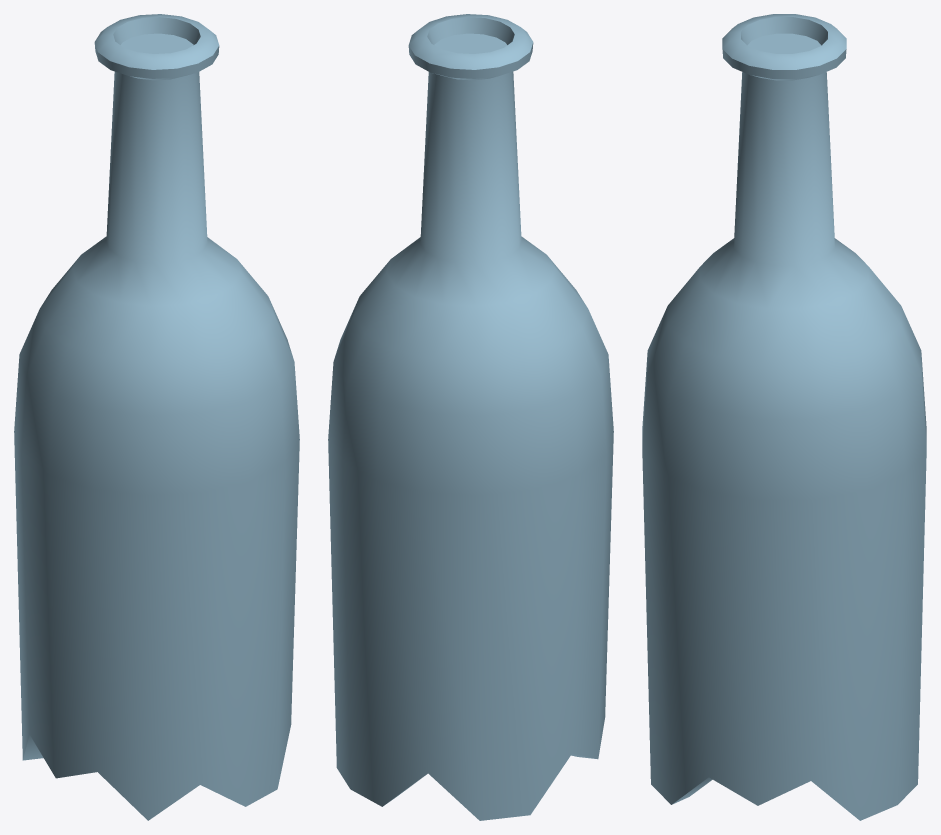
File: Botella_01.001.fbx
3 views of the same model, side by side, from view 1: azimuth 30°, elevation 25°; view 2: azimuth 150°, elevation 25°; view 3: azimuth 270°, elevation 25° (orthographic).
Parts seen in each view (by area): view 1: Botella_01.001; view 2: Botella_01.001; view 3: Botella_01.001.
Boxes of the visible parts, x1,y1,x2,y2 form: Botella_01.001: (14, 14, 299, 820); Botella_01.001: (328, 14, 613, 820); Botella_01.001: (642, 14, 926, 820).
Bounding box in the file's own units: 27.8 × 79.6 × 27.8.
